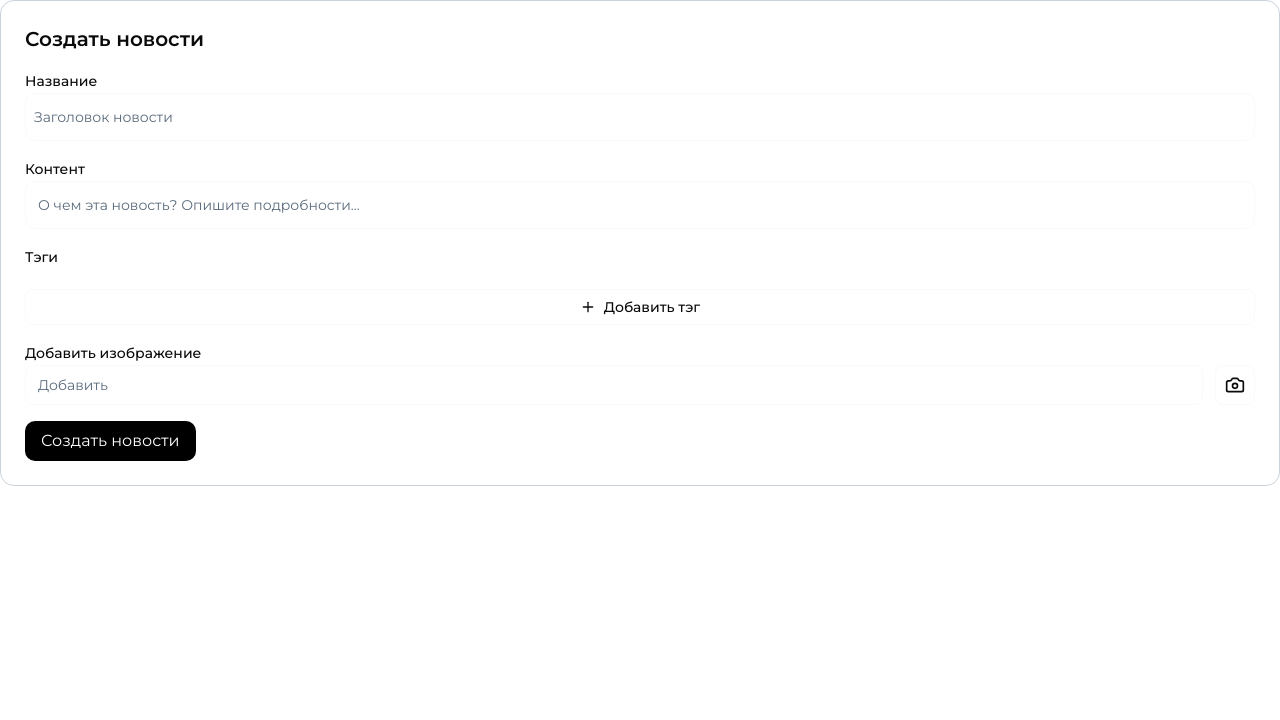
CreateNewsForm › требует непустой тэг
Click the button "Добавить тэг" at {"x": 640, "y": 307}, box [25, 289, 1255, 325]
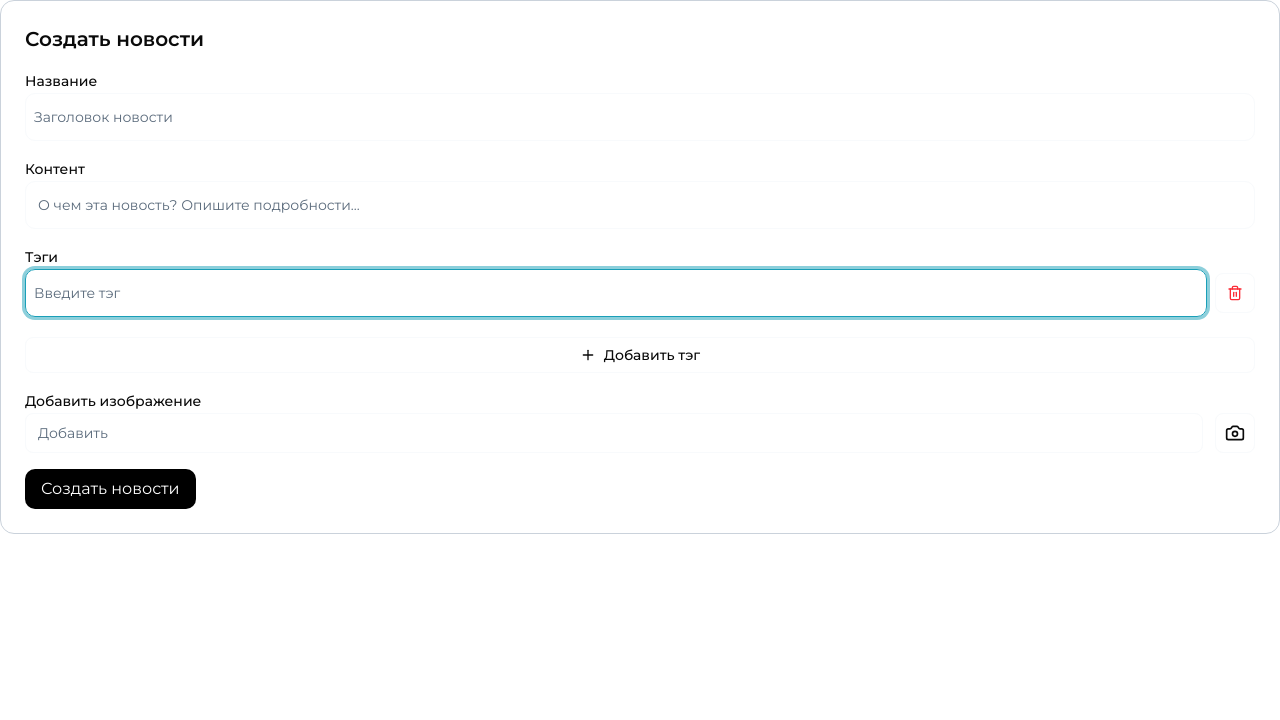
Check: the field with placeholder "Введите тэг" is shown, box [25, 269, 1207, 317]
Click the button "Создать новости" at {"x": 110, "y": 489}, box [25, 469, 196, 509]
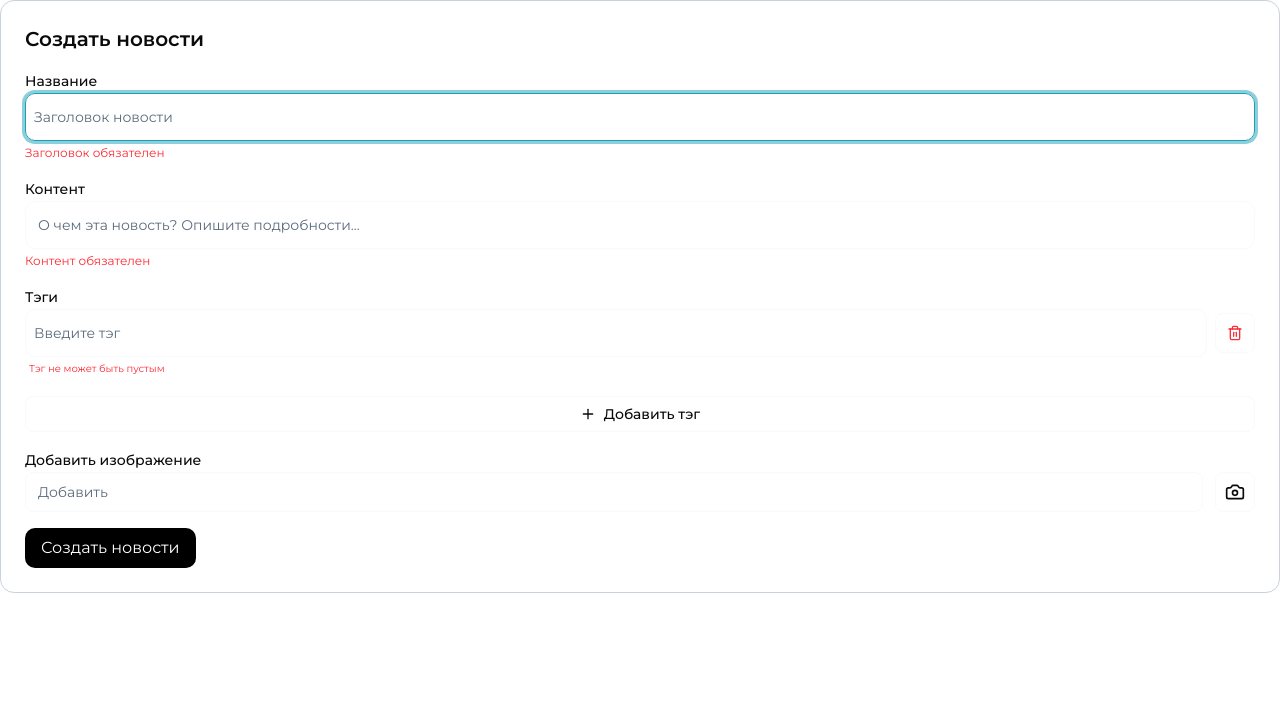
Check: the text "Тэг не может быть пустым" is shown, box [29, 362, 165, 375]
